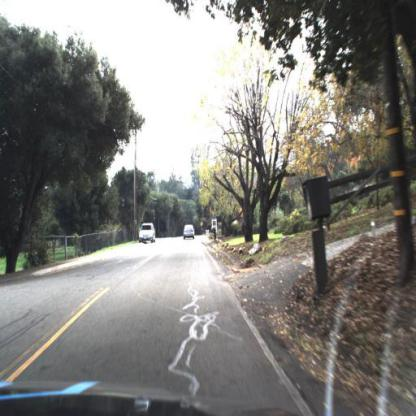car: (139, 222, 157, 247), (182, 221, 199, 244)
